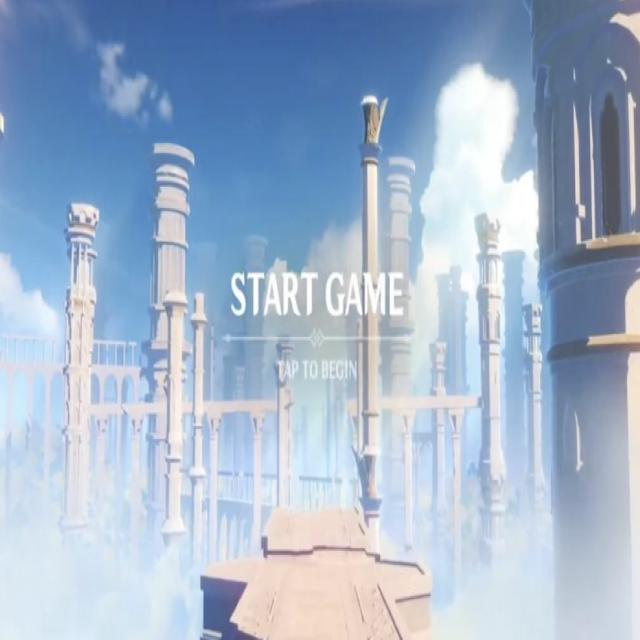Start-button: (229, 255, 408, 344)
